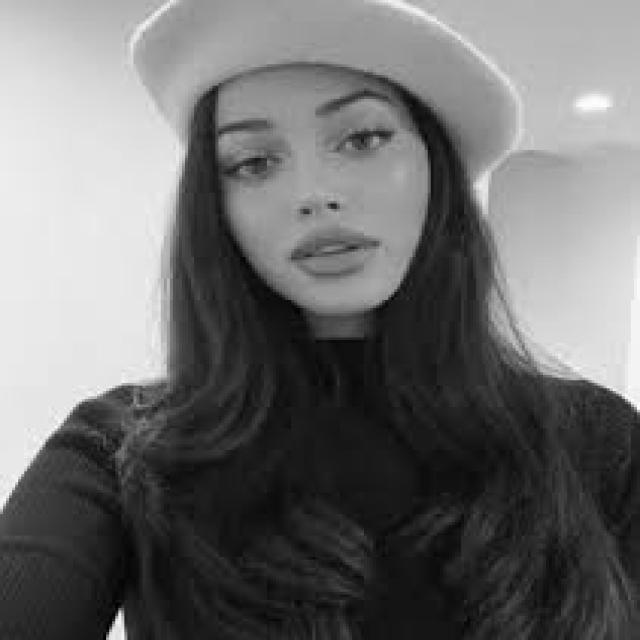without_mask: (206, 64, 431, 314)
